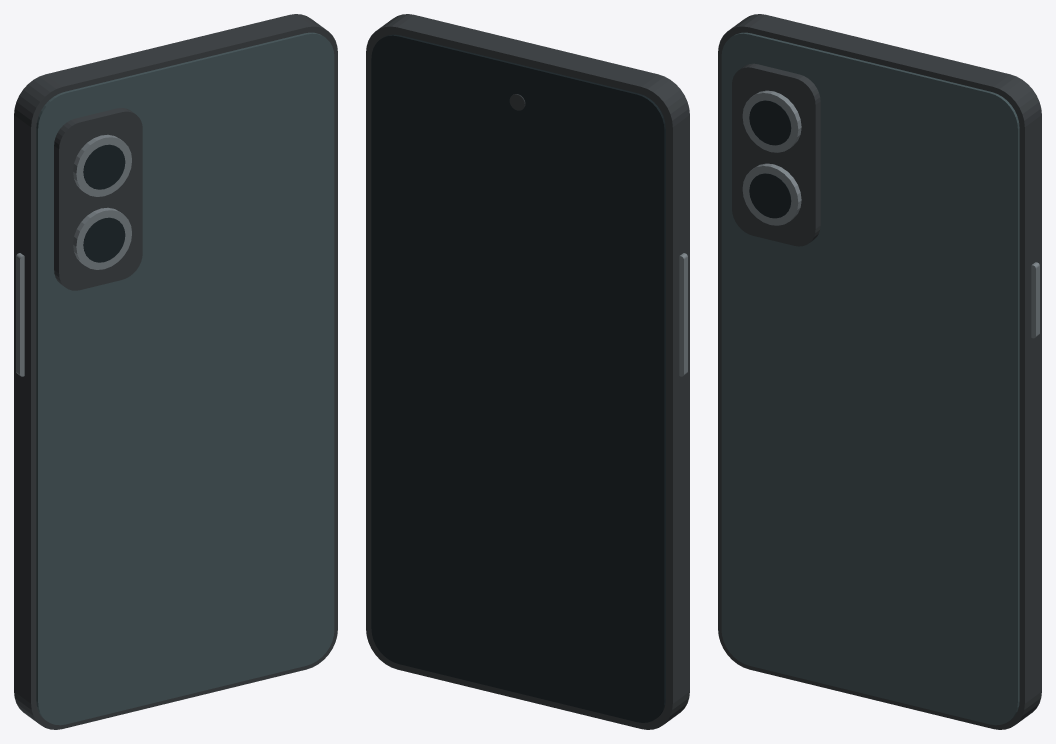
Rendered from ModernPhone.fbx.
3 renders of one model, left to right at view 1: azimuth 30°, elevation 25°; view 2: azimuth 150°, elevation 25°; view 3: azimuth 330°, elevation 25°, orthographic.
Parts seen in each view (by area): view 1: BackGlass, Frame, CameraIsland, LensGlass.001, LensGlass, LensRim, LensRim.001, VolumeButton; view 2: DisplayGlass, Frame, VolumeButton; view 3: BackGlass, Frame, CameraIsland, LensGlass.001, LensGlass, LensRim, LensRim.001, PowerButton.
Boxes of the visible parts, x1,y1,x2,y2 form: BackGlass: [36, 32, 334, 725]; Frame: [14, 14, 337, 729]; CameraIsland: [54, 108, 142, 290]; LensGlass.001: [83, 144, 125, 189]; LensGlass: [83, 217, 125, 262]; LensRim: [73, 207, 131, 269]; LensRim.001: [73, 134, 131, 196]; VolumeButton: [16, 253, 24, 376]; DisplayGlass: [371, 34, 665, 722]; Frame: [366, 14, 689, 729]; VolumeButton: [679, 253, 687, 376]; BackGlass: [721, 32, 1019, 725]; Frame: [718, 14, 1041, 729]; CameraIsland: [732, 63, 820, 246]; LensGlass.001: [749, 100, 791, 145]; LensGlass: [749, 173, 791, 218]; LensRim: [742, 163, 801, 225]; LensRim.001: [742, 90, 801, 152]; PowerButton: [1031, 262, 1039, 338].
Bounding box in the file's own units: 9.06 × 17.6 × 1.49.
